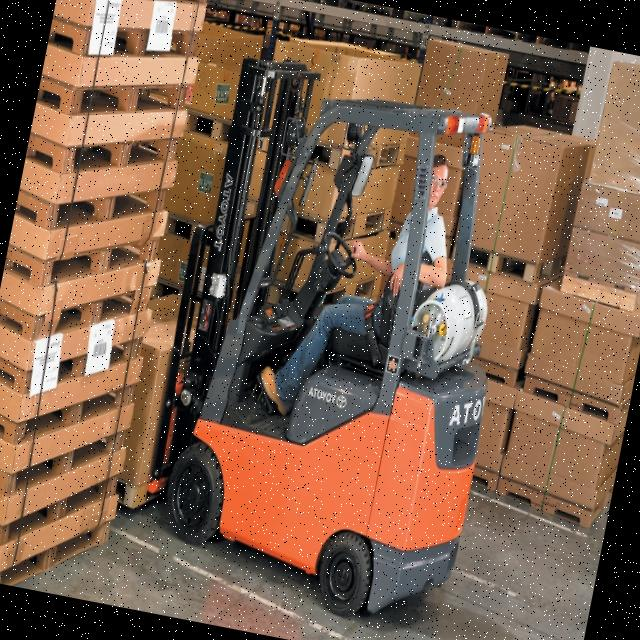Person: (254, 129, 468, 444)
